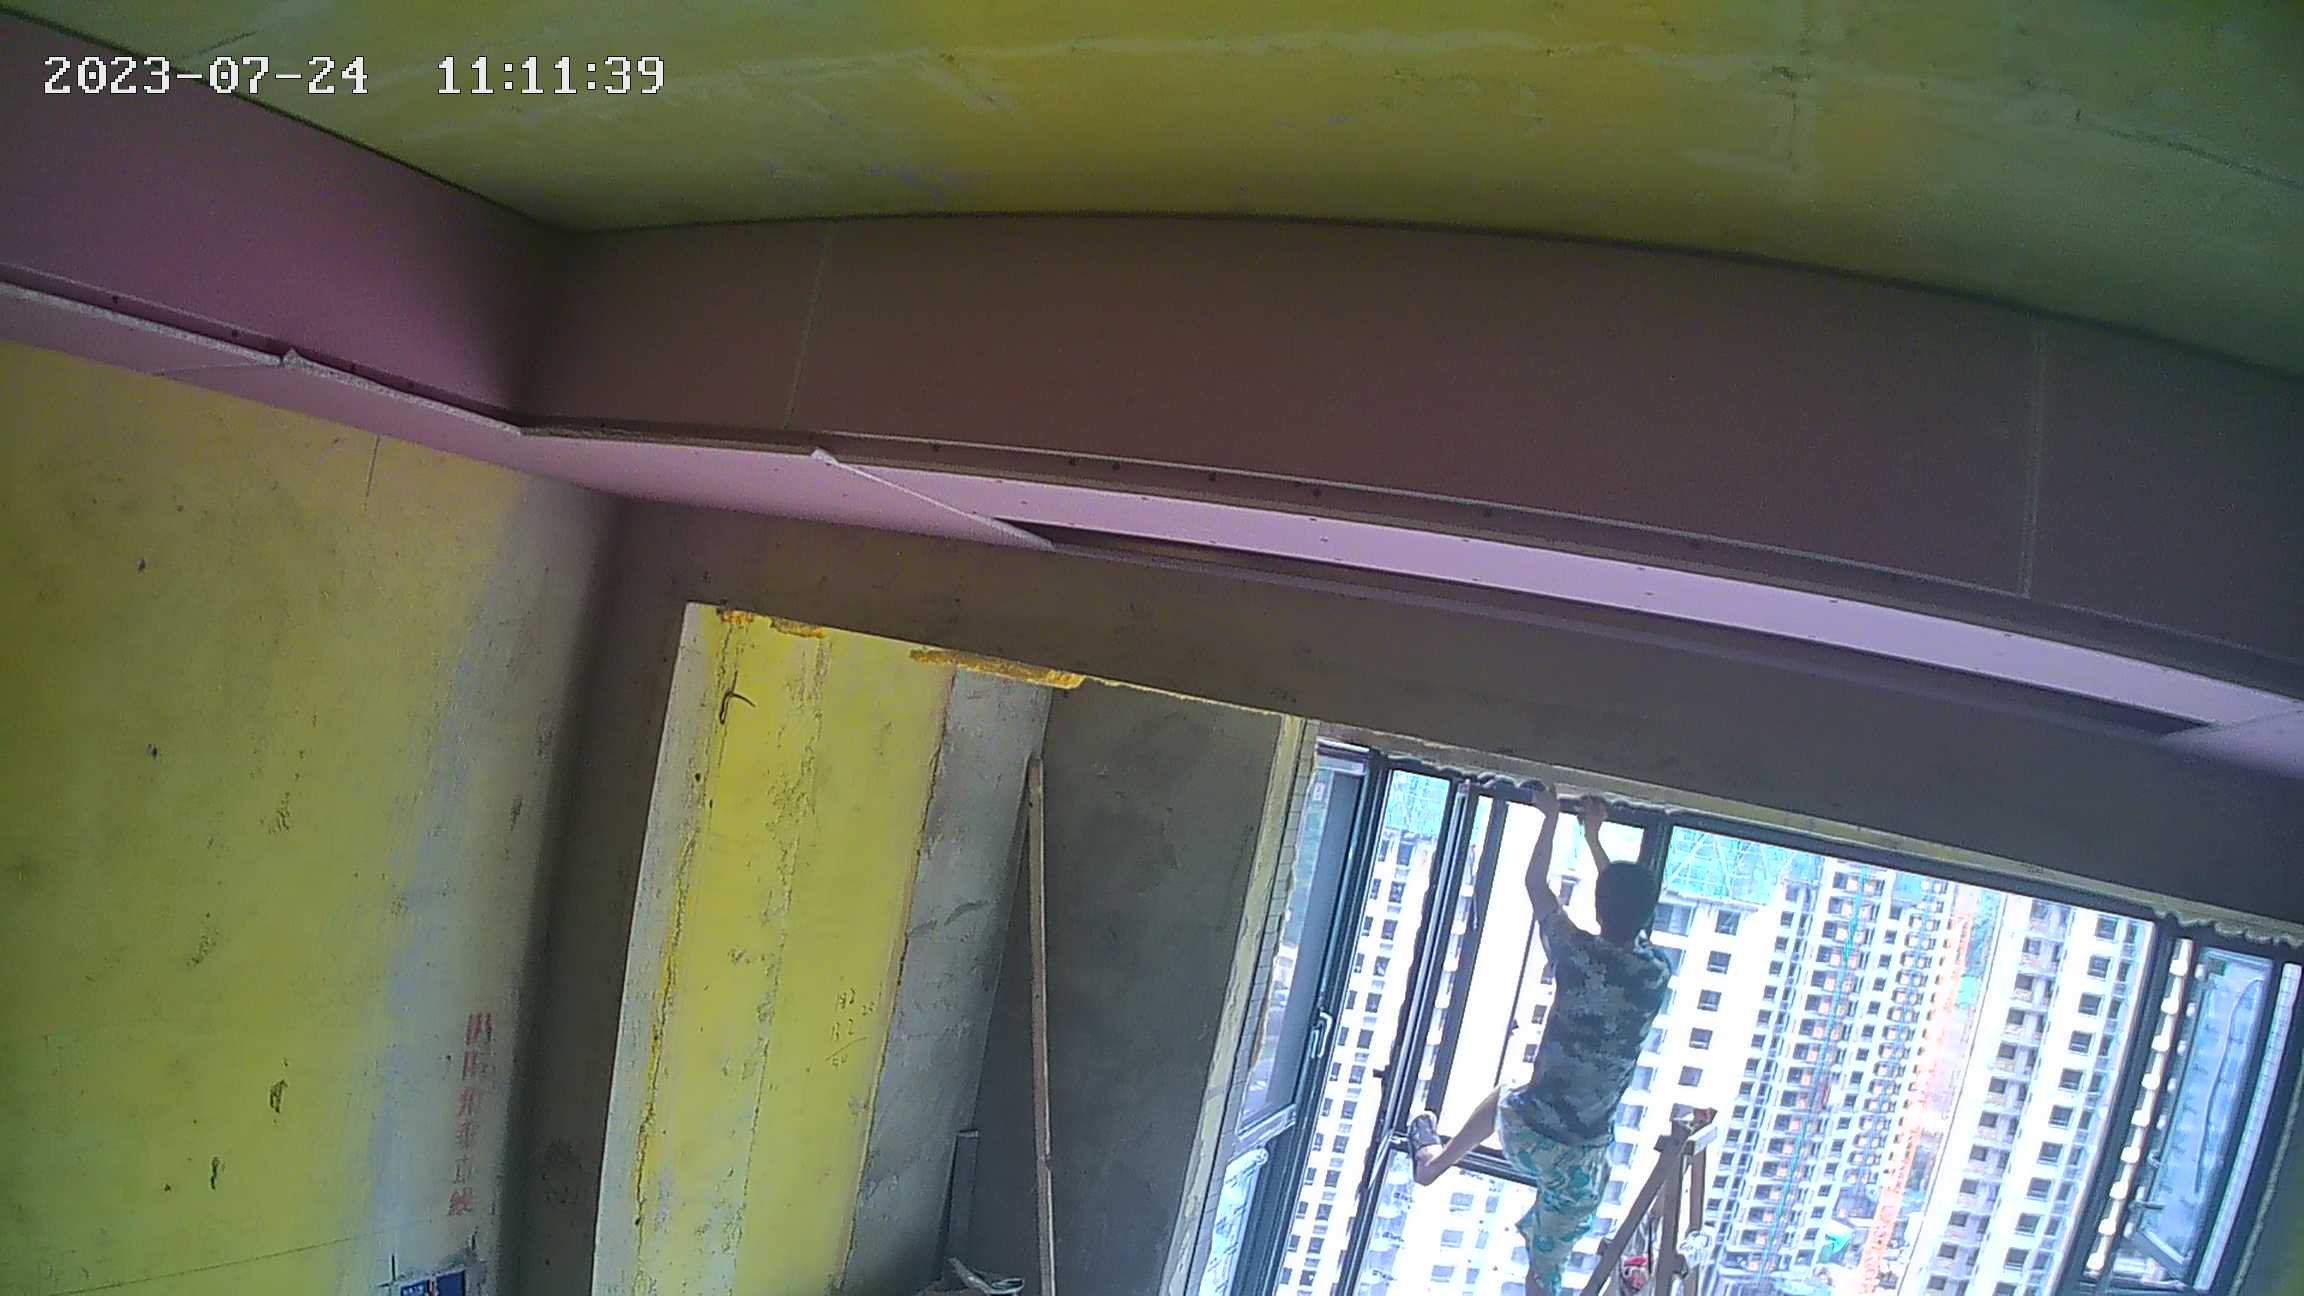people: (1422, 768, 1661, 1295)
window: (1183, 733, 2254, 1296)
